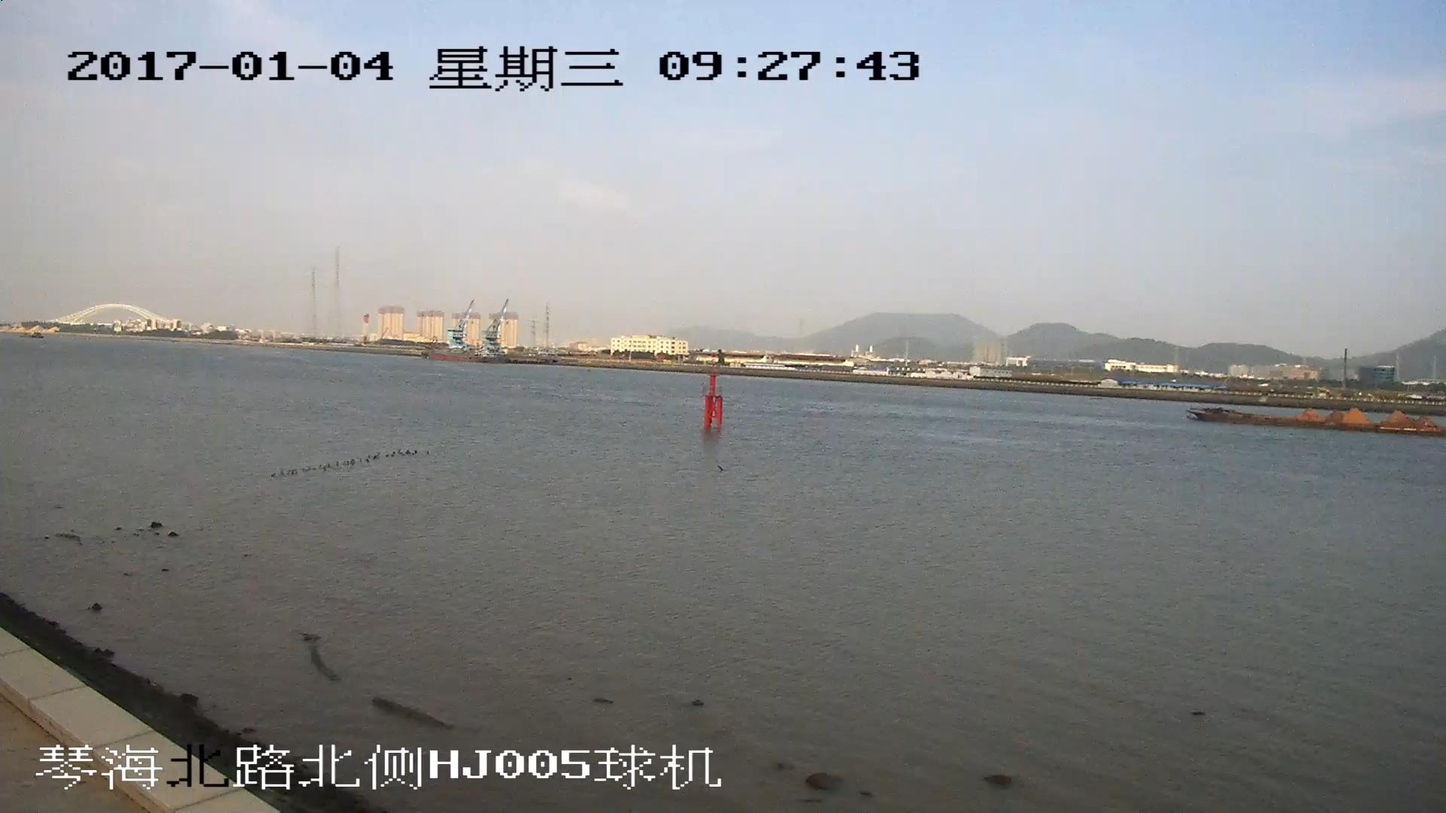ore carrier: (1194, 406, 1445, 434)
